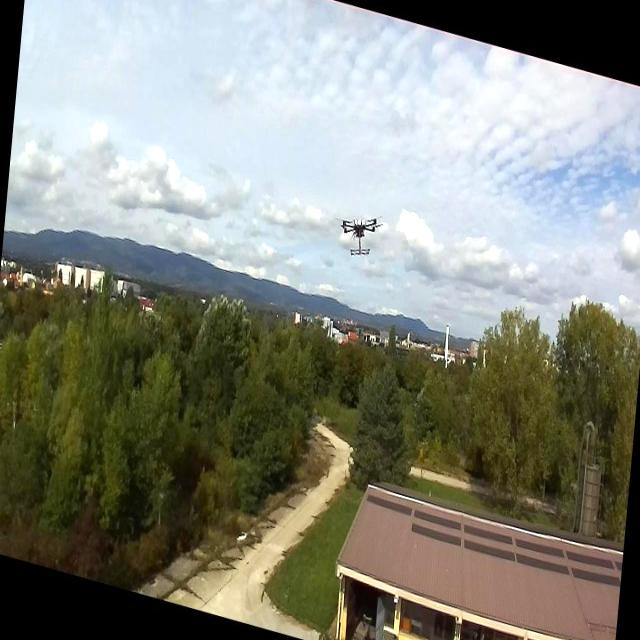drone: (337, 203, 381, 265)
